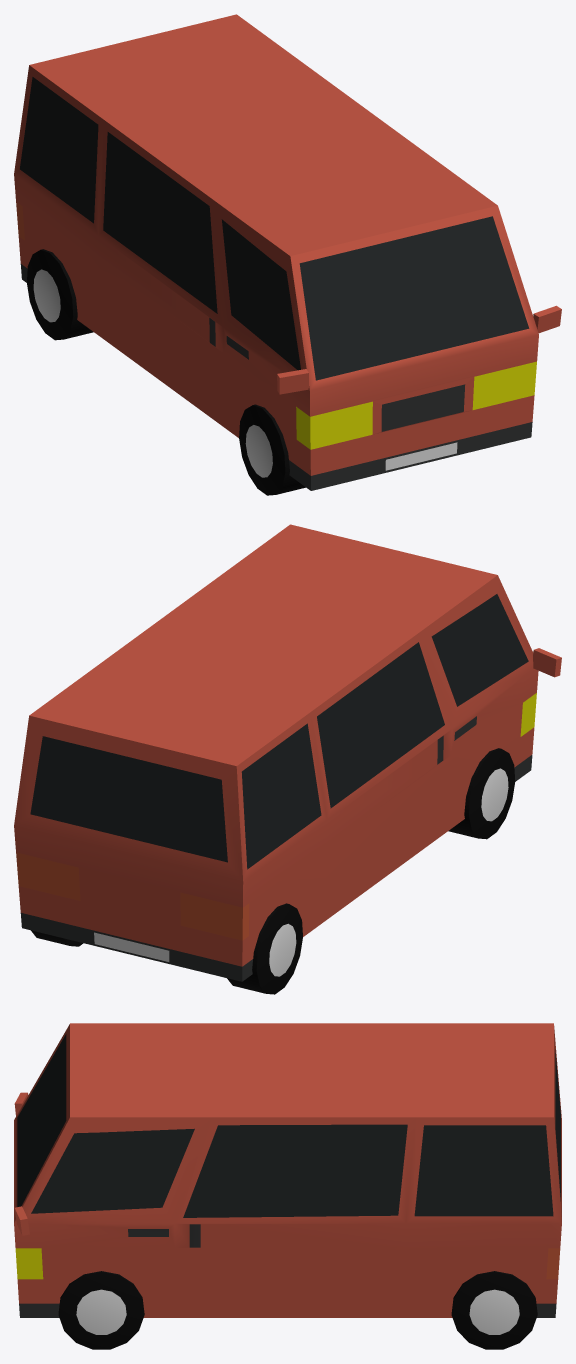
Rendered from Van1.fbx.
3 views of the same model, one above another, from view 1: azimuth 30°, elevation 25°; view 2: azimuth 150°, elevation 25°; view 3: azimuth 270°, elevation 25° (orthographic). The views are drawn at different scales.
Visible parts, largest first — view 1: Body5, WheelRL2, WheelRL4, pCube3; view 2: Body5, WheelRL2, WheelRL4, pCube3; view 3: Body5, WheelRL3, WheelRL1.
Part boxes in pixels (x1,y1,x2,y2): Body5: (14, 14, 538, 490); WheelRL2: (26, 249, 93, 340); WheelRL4: (239, 404, 305, 495); pCube3: (277, 369, 308, 394); Body5: (14, 524, 538, 981); WheelRL2: (227, 903, 302, 994); WheelRL4: (448, 748, 515, 839); pCube3: (533, 648, 561, 677); Body5: (14, 1023, 561, 1317); WheelRL3: (58, 1271, 144, 1349); WheelRL1: (451, 1271, 537, 1349).
Size of the model in its own units: 3.56 by 2.97 by 6.48.
